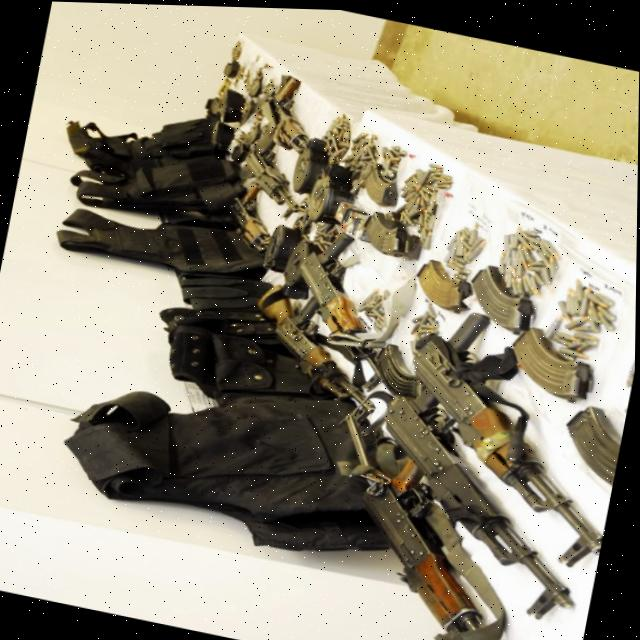firearm: (377, 296, 637, 565), (350, 374, 609, 617), (330, 443, 591, 640), (243, 279, 397, 408), (288, 222, 381, 341), (234, 137, 312, 212), (249, 77, 321, 153), (223, 188, 281, 251)
